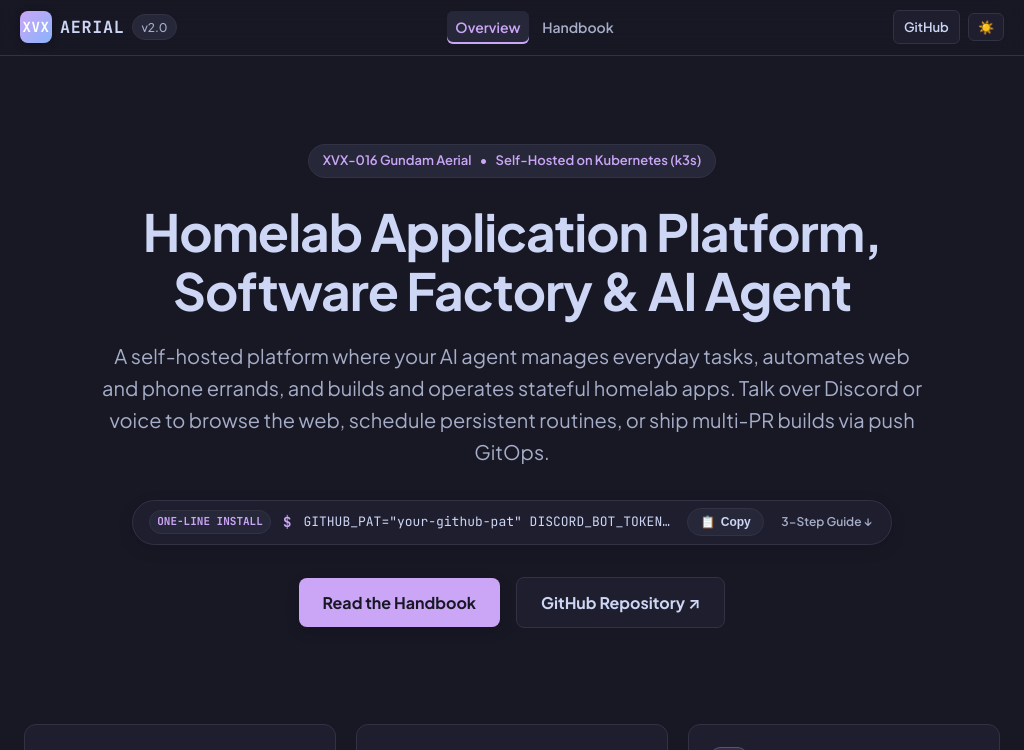
Test: App component › toggles theme when clicking the theme button in navbar
Click the button labelled "☀️" at (986, 27), box [968,13,1004,42]
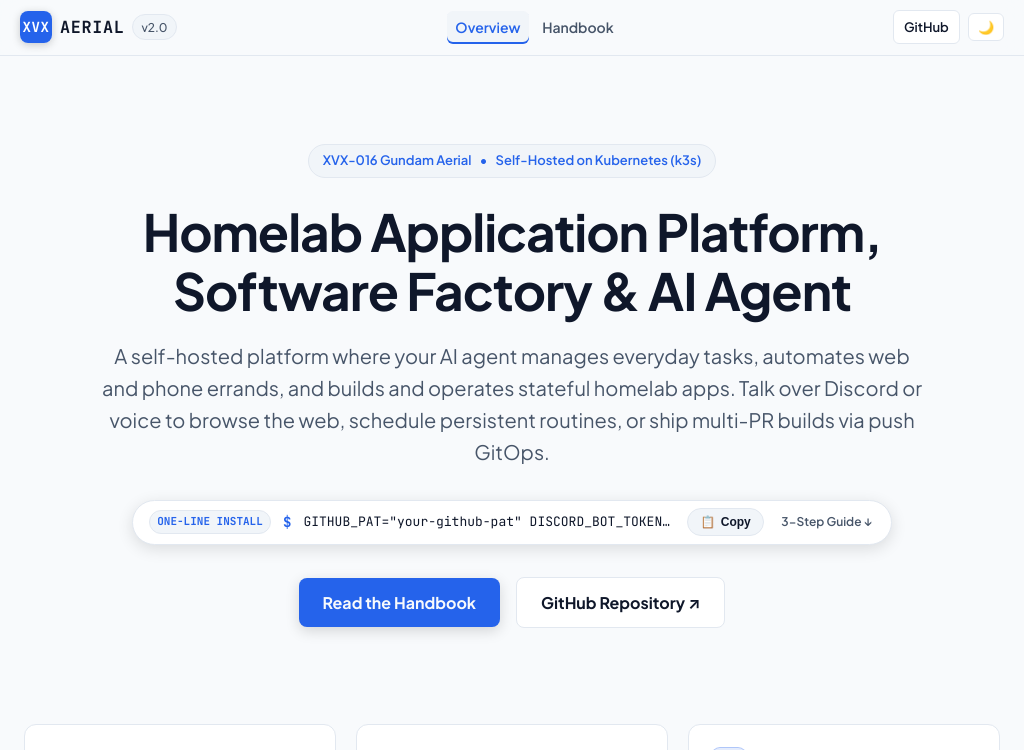
Expected: the button named "Switch to dark theme" reads "🌙"
Click the button named "Switch to dark theme" at (986, 27), box [968,13,1004,42]
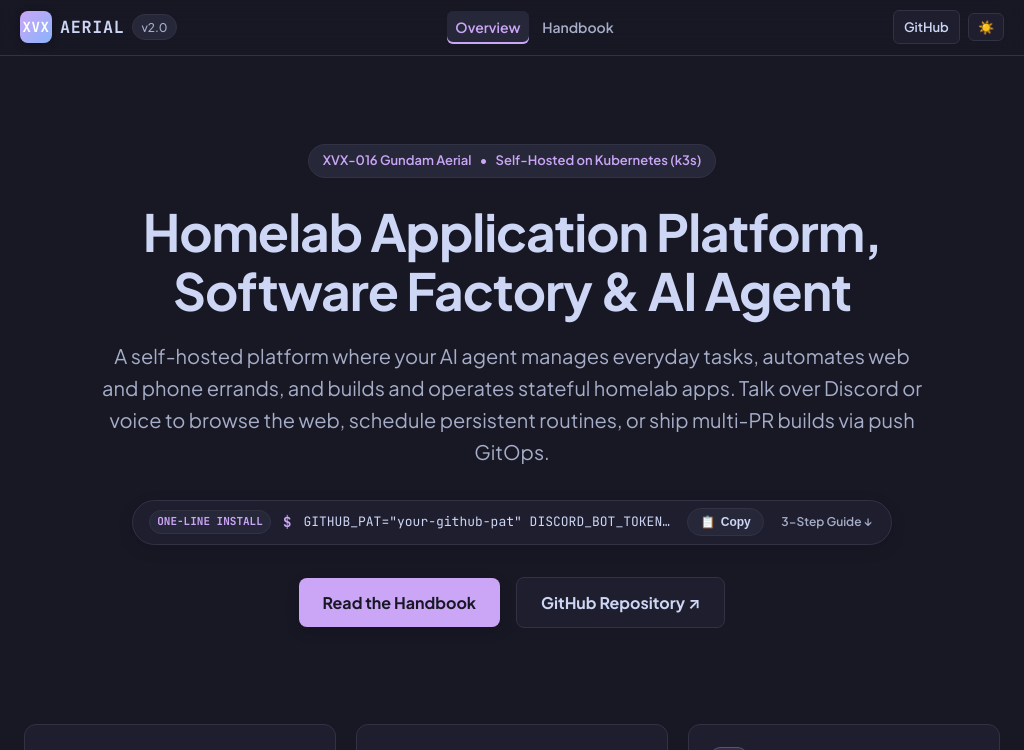
Expected: the button named "Switch to light theme" reads "☀️", [968,13,1004,42]
